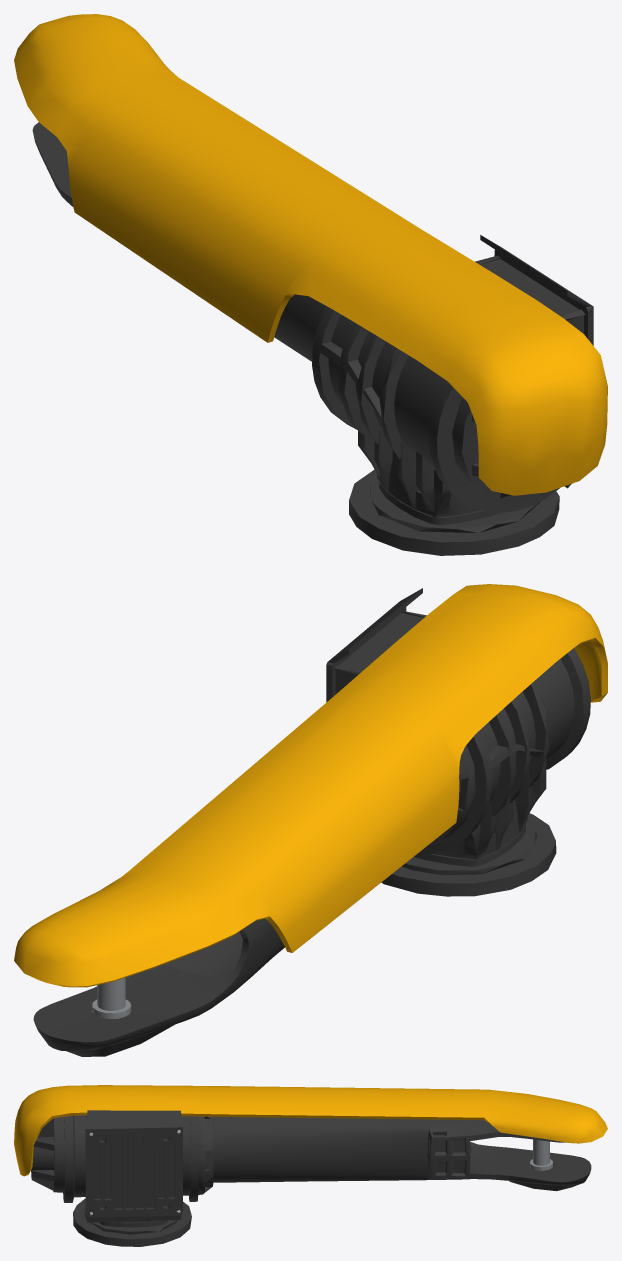
File: fl_upper_leg.obj
The picture shows the model from 3 angles, top to bottom: view 1: azimuth 30°, elevation 25°; view 2: azimuth 150°, elevation 25°; view 3: azimuth 270°, elevation 25°; orthographic projection. The views are drawn at different scales.
Parts seen in each view (by area): view 1: fl_upper_leg; view 2: fl_upper_leg; view 3: fl_upper_leg.
Part boxes in pixels (box(x1,y1,x2,y2)): fl_upper_leg: box(14, 14, 607, 555); fl_upper_leg: box(14, 584, 607, 1056); fl_upper_leg: box(14, 1085, 607, 1246).
Bounding box in the file's own units: 0.0745 × 0.0804 × 0.3276.
